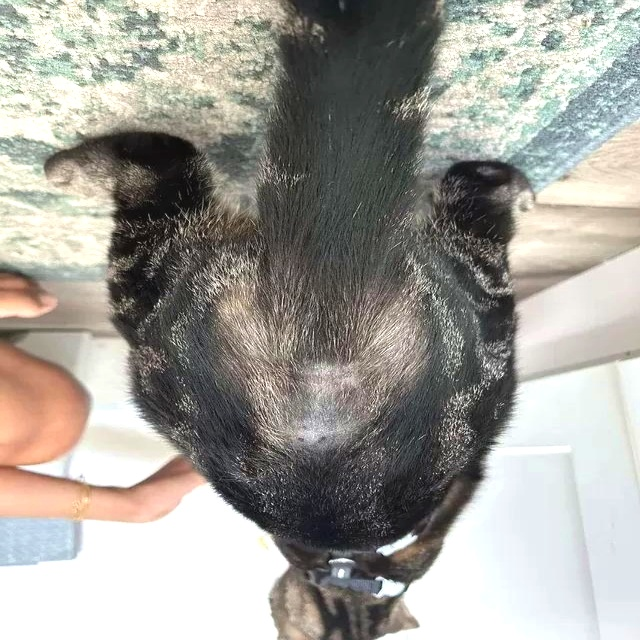hairloss: (269, 349, 362, 460)
